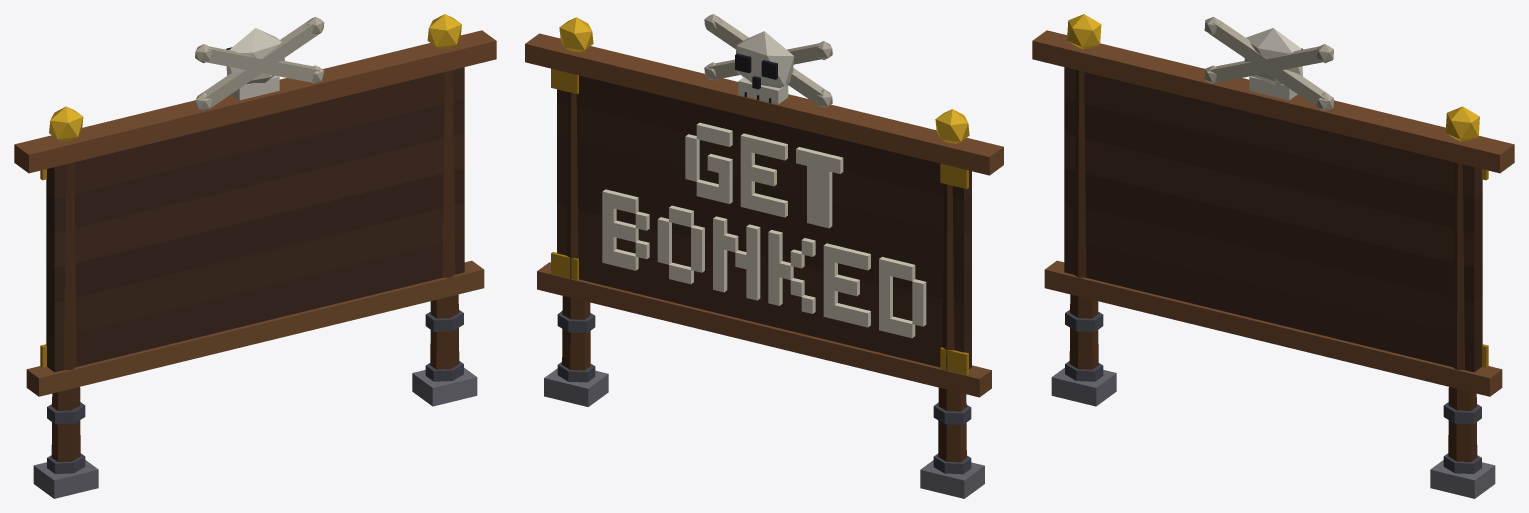
Rendered from Decor_PirateShip_Sign.fbx.
3 views of the same model, side by side, from view 1: azimuth 30°, elevation 25°; view 2: azimuth 150°, elevation 25°; view 3: azimuth 330°, elevation 25° (orthographic).
Parts seen in each view (by area): view 1: Sign_Body; view 2: Sign_Body; view 3: Sign_Body.
Part boxes in pixels (bbox=[...]): Sign_Body: bbox=[14, 14, 496, 498]; Sign_Body: bbox=[525, 14, 1003, 498]; Sign_Body: bbox=[1032, 14, 1514, 498].
Size of the model in its own units: 21 by 17.7 by 1.6.
